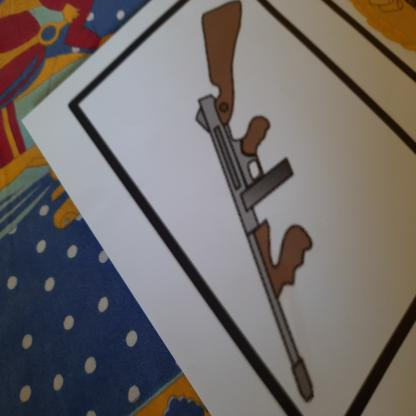Bootlegger: (188, 1, 336, 416)
